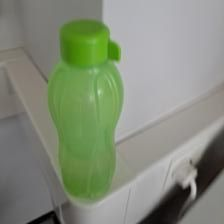bottle: (49, 16, 124, 198)
